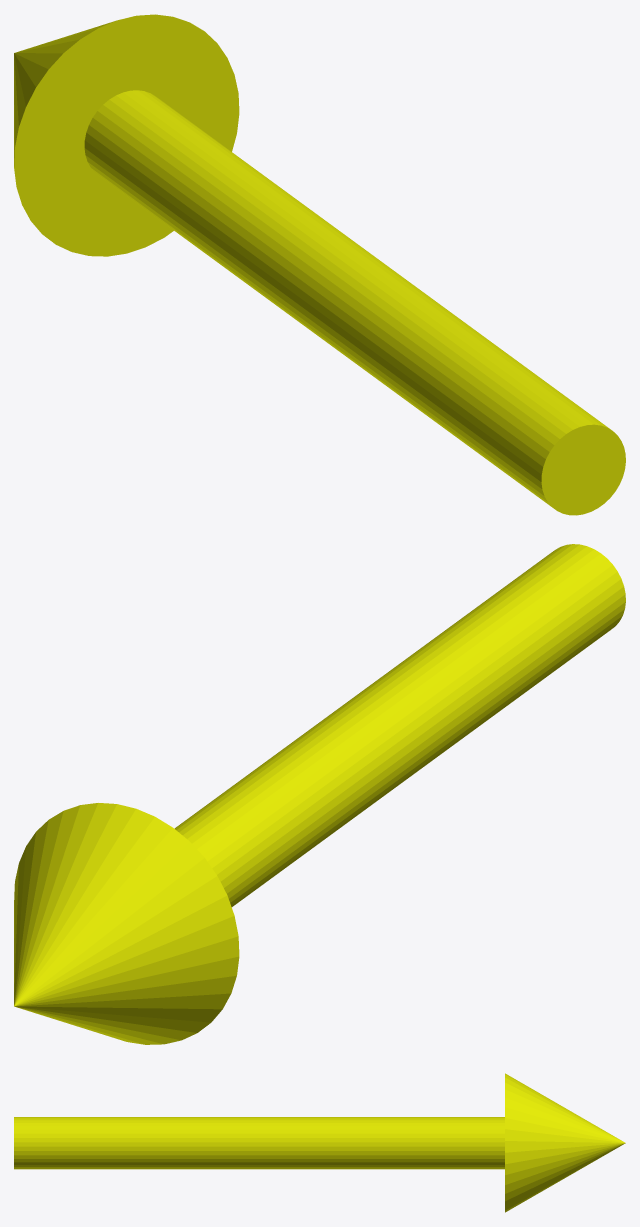
The model's file is Amarillo.fbx.
3 views of the same model, one above another, from view 1: azimuth 30°, elevation 25°; view 2: azimuth 150°, elevation 25°; view 3: azimuth 270°, elevation 25° (orthographic). The views are drawn at different scales.
Parts seen in each view (by area): view 1: azul; view 2: azul; view 3: azul.
Part boxes in pixels (x1,y1,x2,y2): azul: [14, 14, 625, 515]; azul: [14, 544, 625, 1044]; azul: [14, 1073, 625, 1212].
Bounding box in the file's own units: 1599 × 1597 × 7000.
